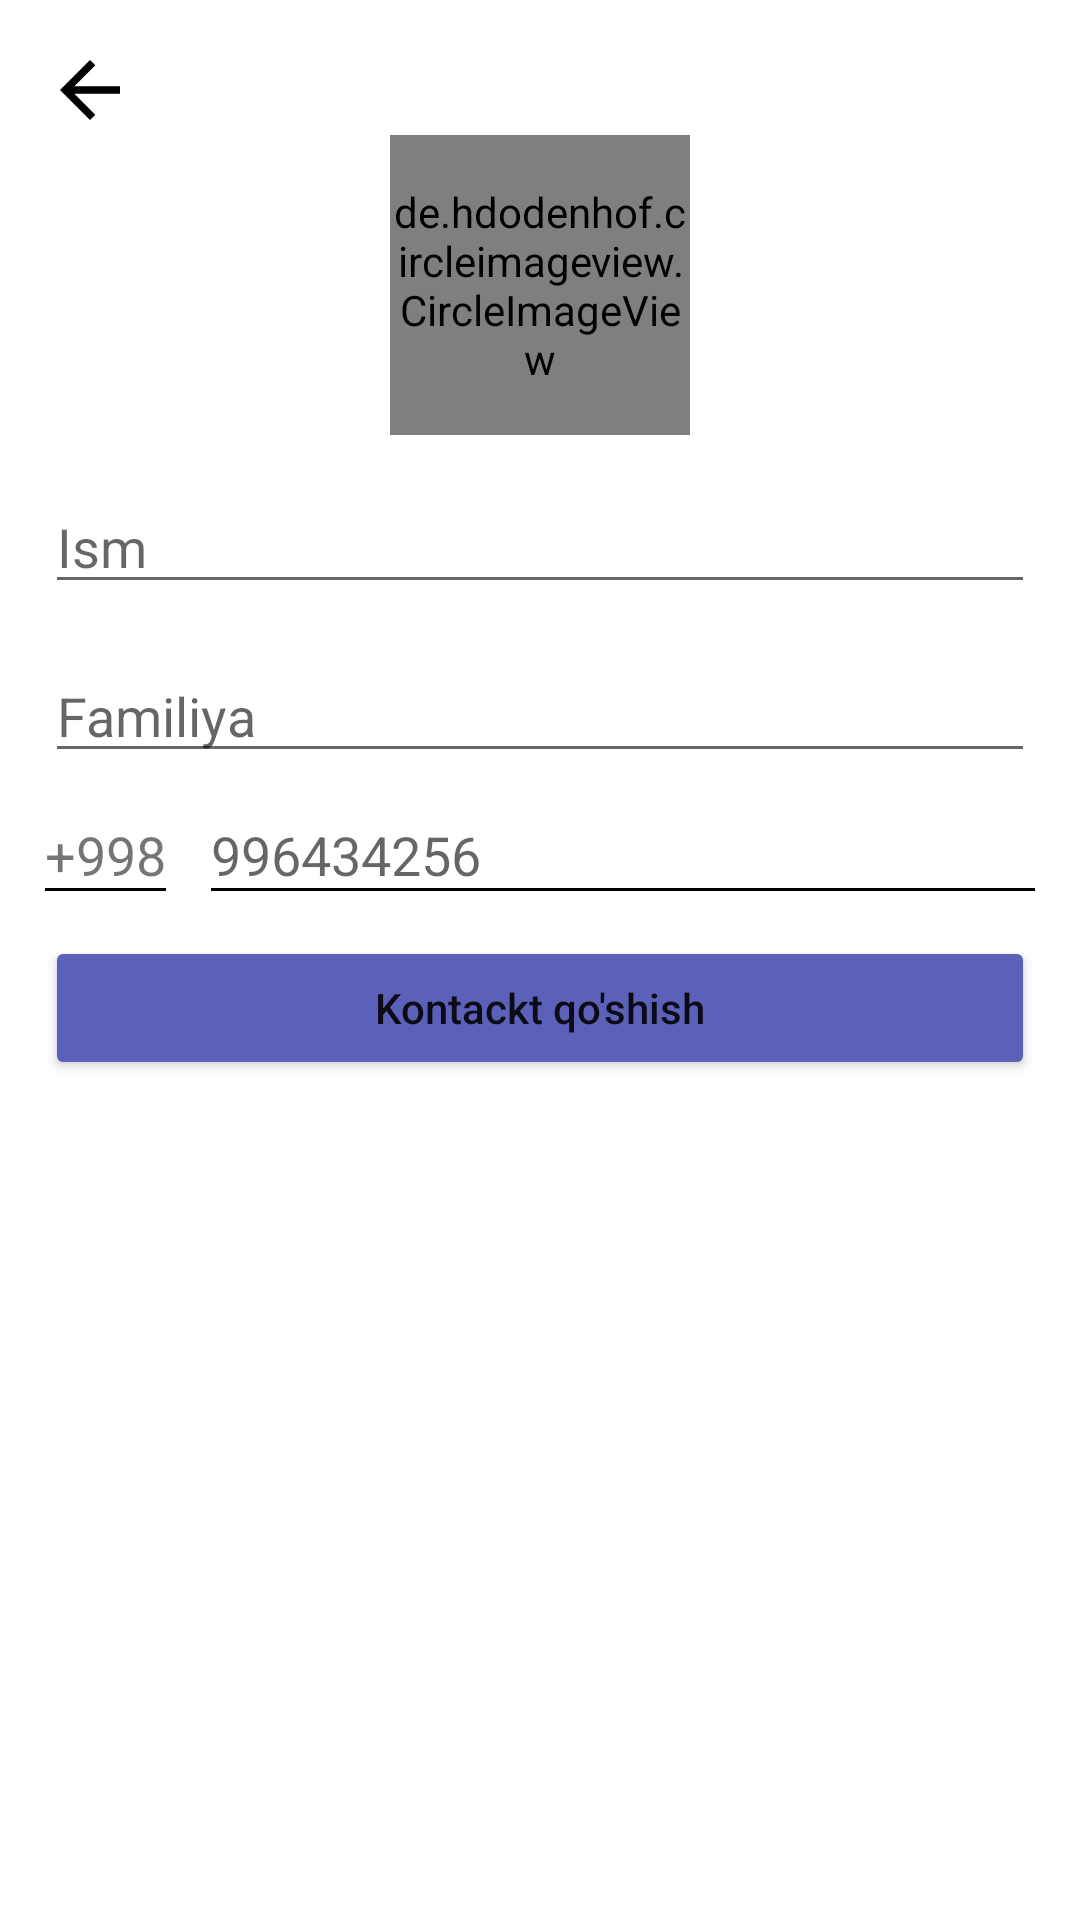

Icon bounding boxes for this 1080px x 1920px phone screenshot, format (x1, y1, x2, y2):
arrow back: (60, 60, 120, 120)
